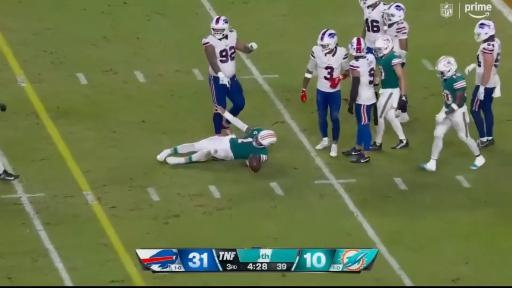Helmet: (383, 2, 406, 25), (436, 56, 457, 79), (474, 20, 495, 41), (317, 29, 337, 51), (374, 34, 393, 56), (211, 16, 229, 39), (255, 130, 277, 147), (349, 37, 366, 56), (359, 0, 378, 7)
Jersey: (310, 44, 349, 91), (203, 30, 237, 76), (348, 52, 377, 105), (475, 40, 501, 89), (231, 129, 269, 161), (363, 4, 388, 48), (377, 51, 403, 90), (442, 72, 466, 108), (387, 21, 408, 55)
Player: (420, 55, 485, 171), (157, 105, 277, 166), (301, 29, 348, 157), (202, 15, 257, 117), (465, 19, 502, 148), (371, 34, 408, 150), (342, 37, 376, 163), (383, 2, 409, 67), (359, 0, 388, 53), (213, 113, 231, 135), (0, 162, 19, 181), (399, 106, 409, 122), (0, 103, 6, 111)
